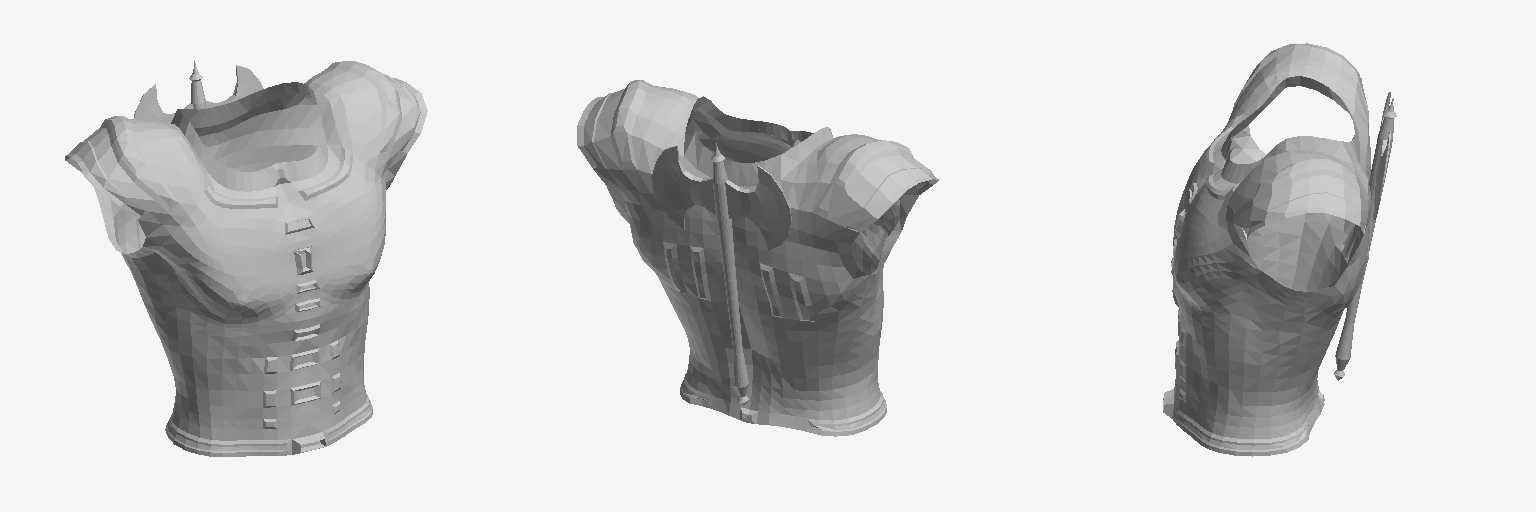
The model's file is armor.obj.
The picture shows the model from 3 angles: view 1: azimuth 30°, elevation 25°; view 2: azimuth 150°, elevation 25°; view 3: azimuth 270°, elevation 25°; orthographic projection.
Parts seen in each view (by area): view 1: armor; view 2: armor; view 3: armor.
Part boxes in pixels (x1,y1,x2,y2): armor: (65, 60, 427, 456); armor: (577, 80, 938, 436); armor: (1163, 43, 1396, 456).
Bounding box in the file's own units: 6.22 × 5.51 × 3.74.